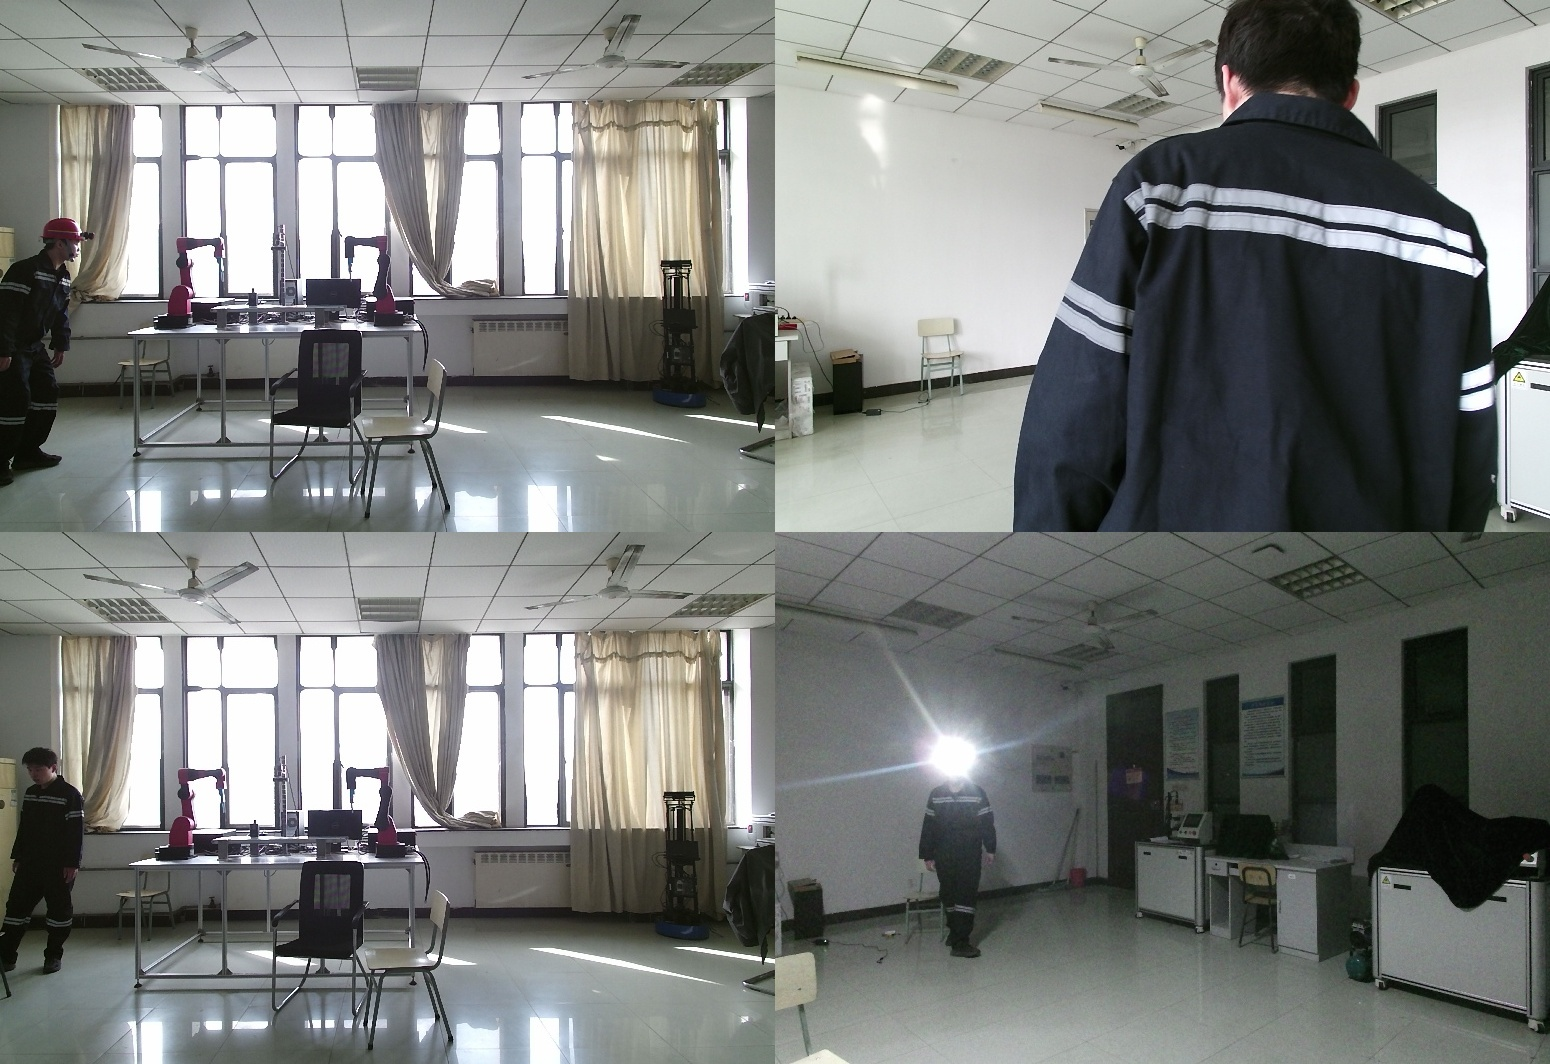person: (1014, 2, 1497, 532), (1, 220, 99, 486), (1, 747, 91, 973), (915, 752, 996, 967)
